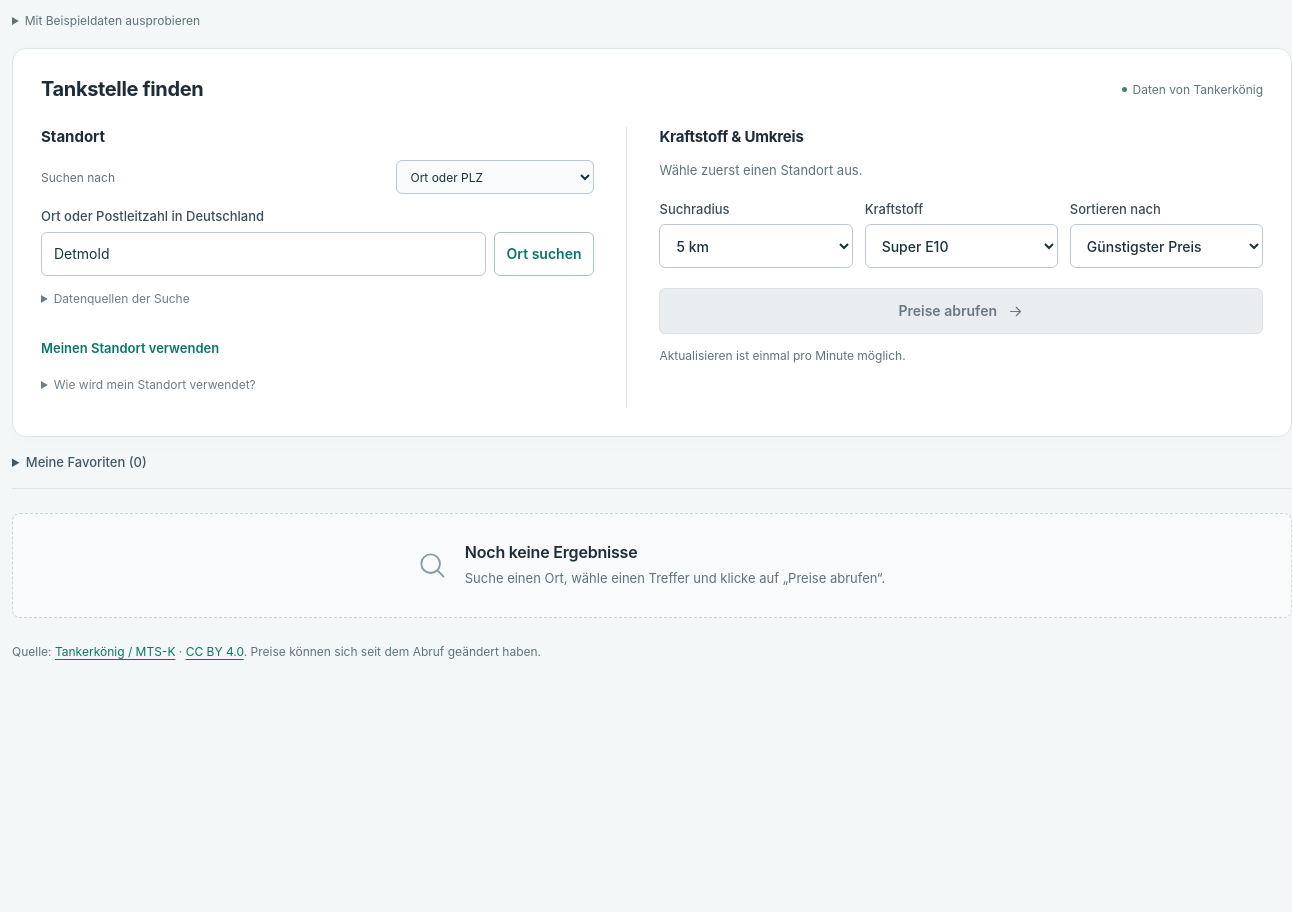
rejects malformed search data instead of rendering partial results
Step 1. Click the button "Ort suchen" → (544, 254), box [494,232,594,276]
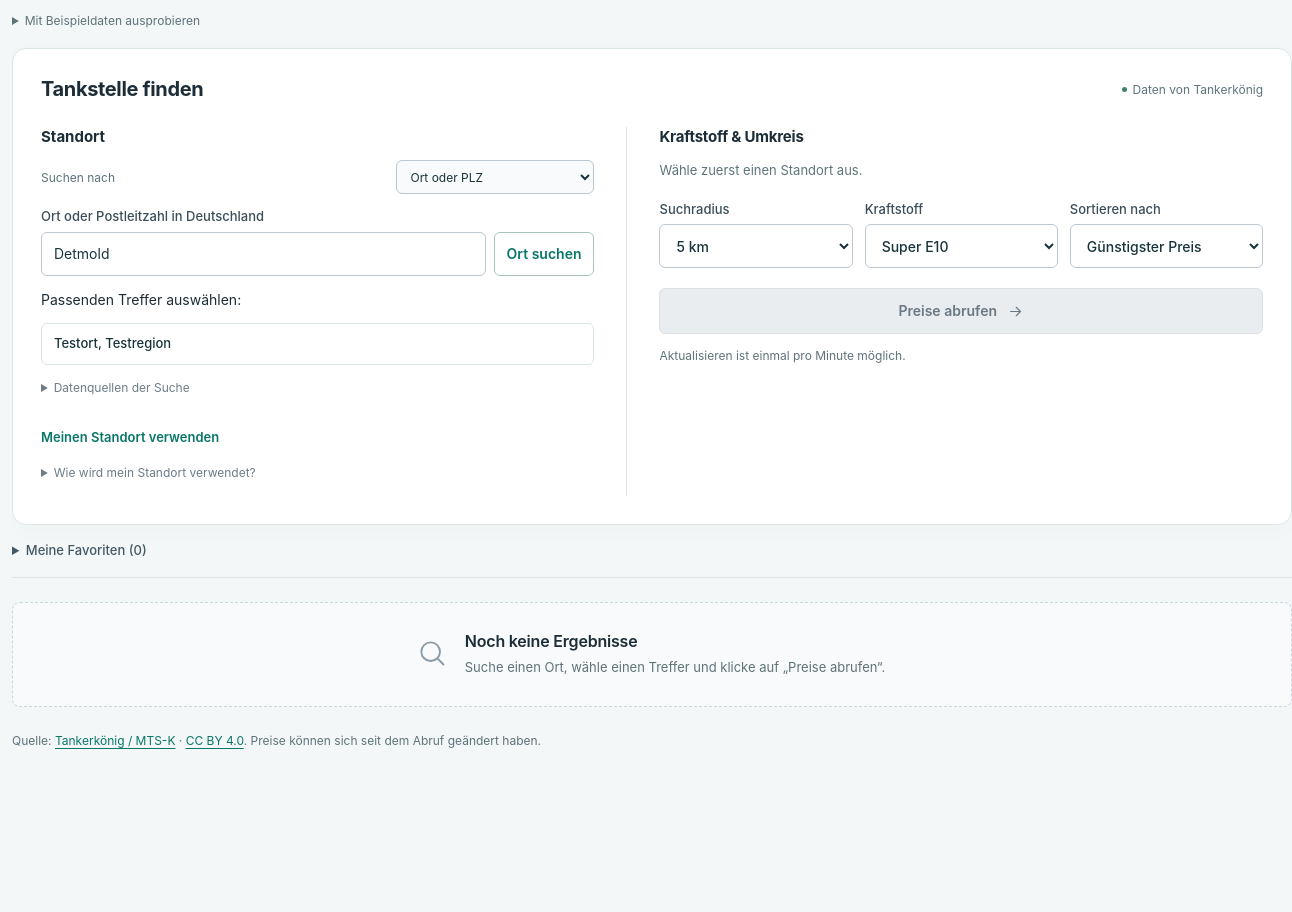
Step 2. Click the button "Testort, Testregion" → (318, 344), box [41,323,594,365]
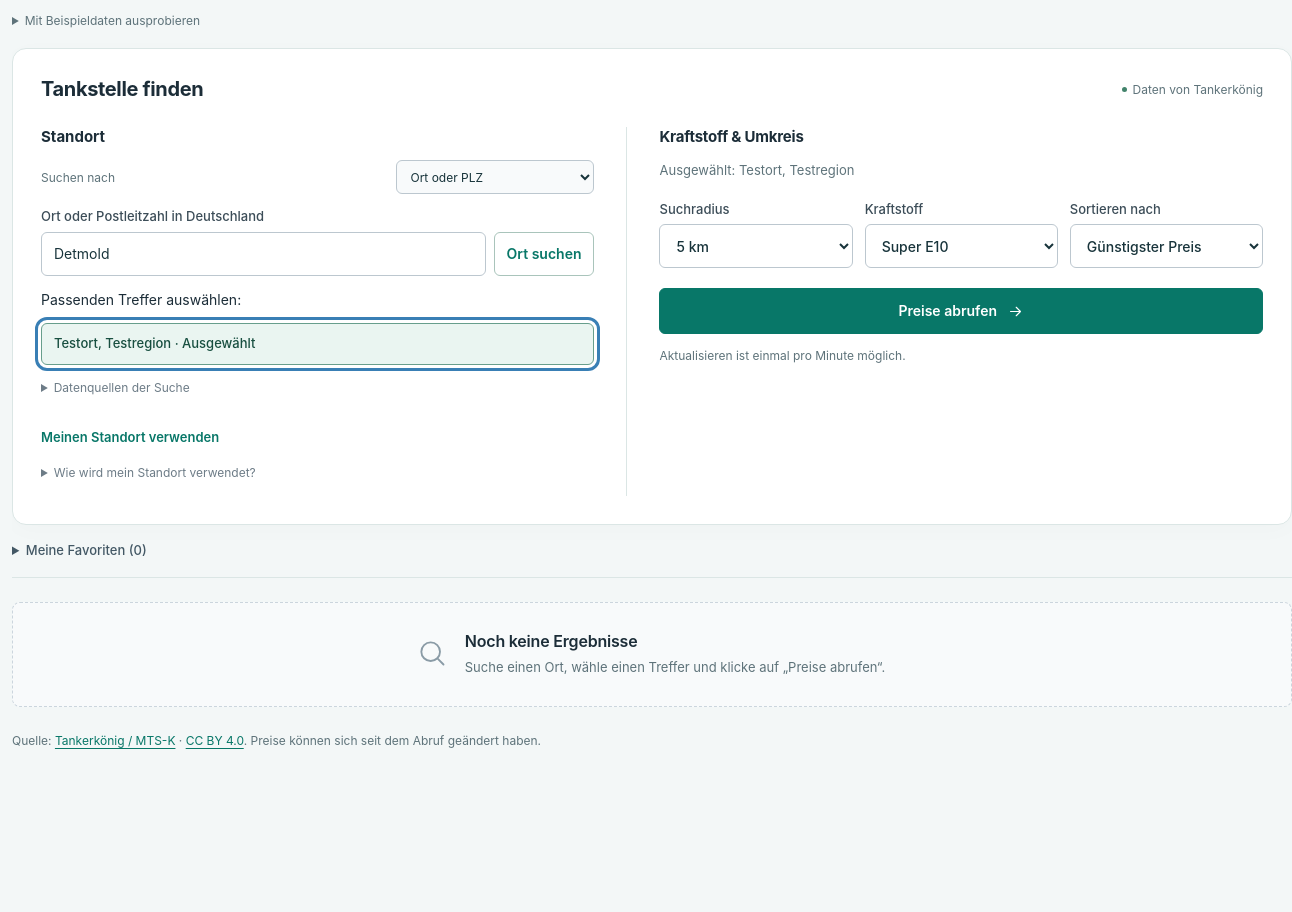
Step 3. Click the button "Preise abrufen" → (961, 311), box [660,288,1263,334]
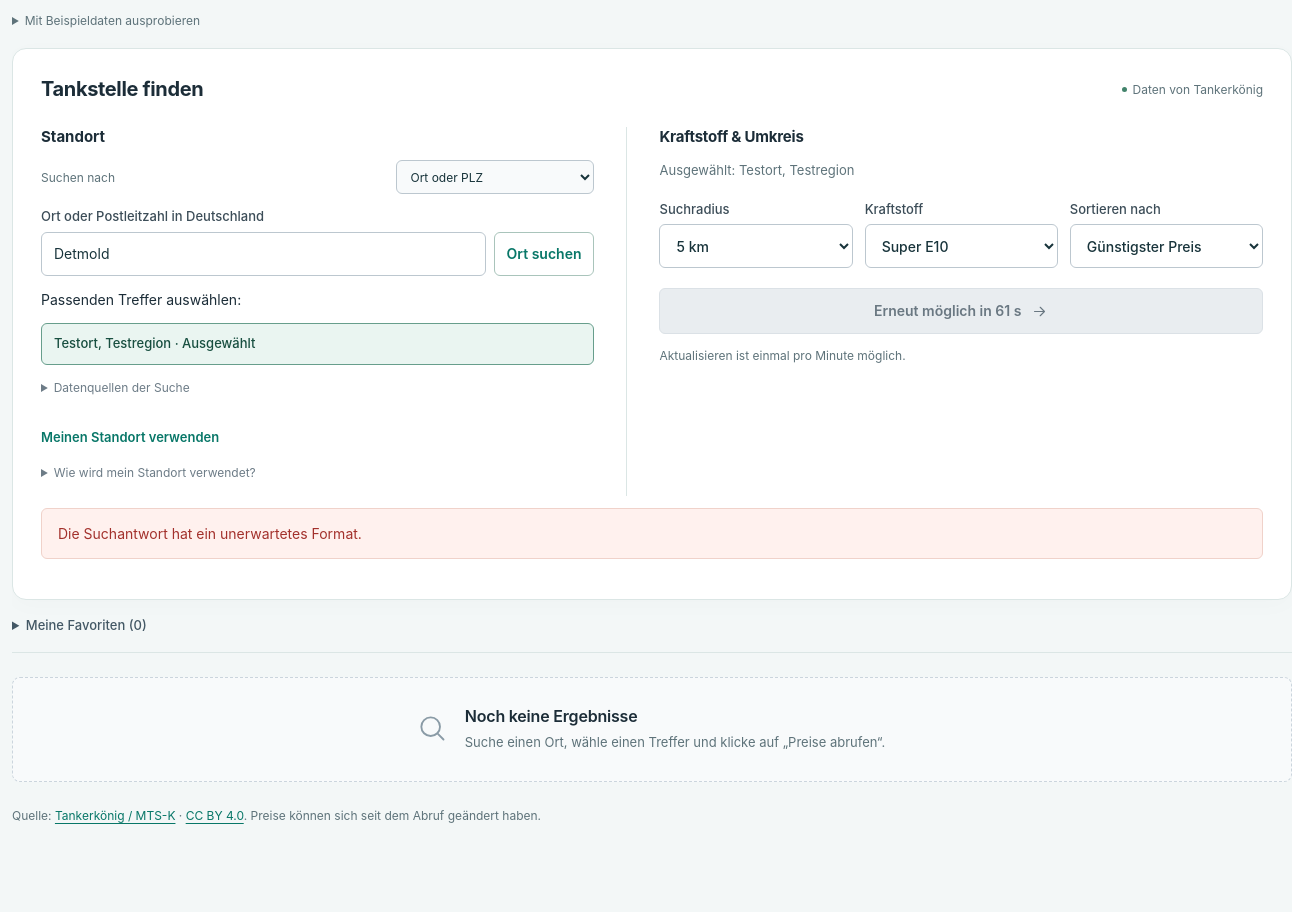
Now the message "Die Suchantwort hat ein unerwartetes Format." is shown, box [41,508,1263,559]
